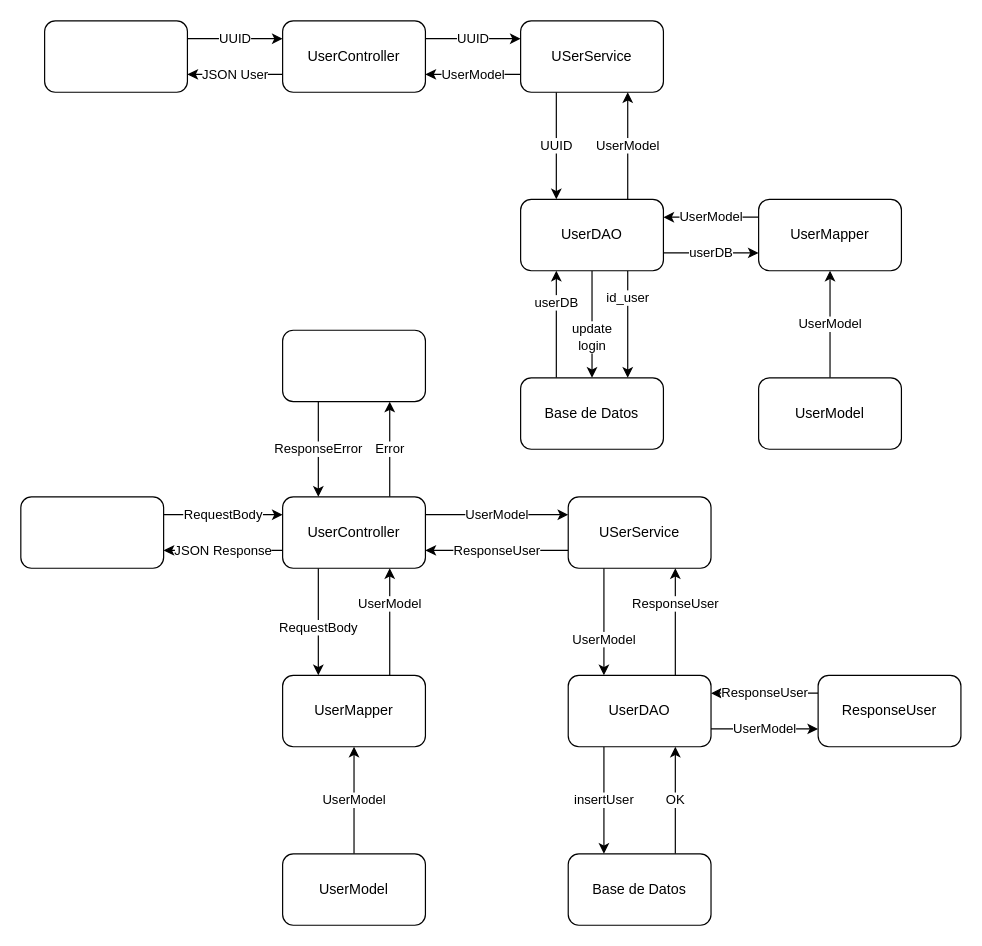
This 982x946 diagram has some shape labels left out. Here are the shapes that lost their labels. From the top down, the centre of each, then its label:
the point at 115,56: GET user/login
the point at 353,365: Response Error
the point at 92,532: POST user/sign-up
